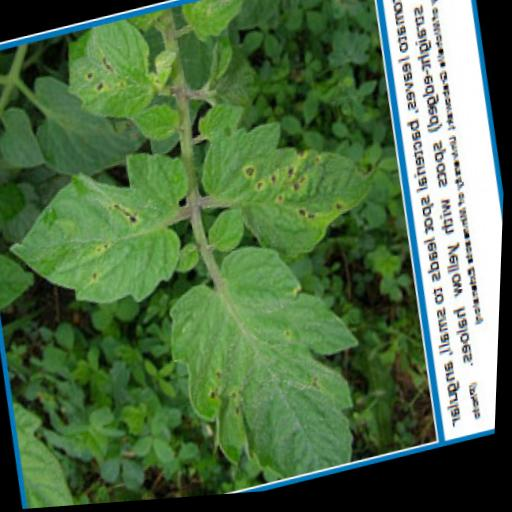Bacterial Spot: (147, 229, 383, 503), (2, 141, 218, 346), (189, 92, 384, 280), (57, 12, 175, 141)
